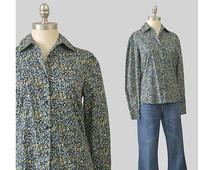C_W_pants: (135, 97, 188, 170)
S_shirt: (15, 30, 114, 170), (123, 18, 190, 120)
